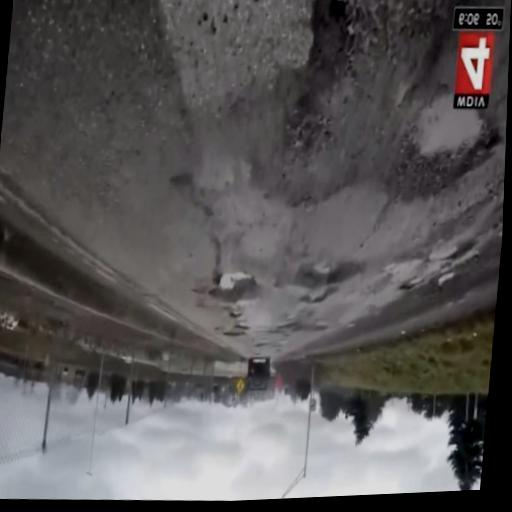pothole: (170, 118, 469, 395), (133, 136, 355, 410), (194, 52, 512, 235)
